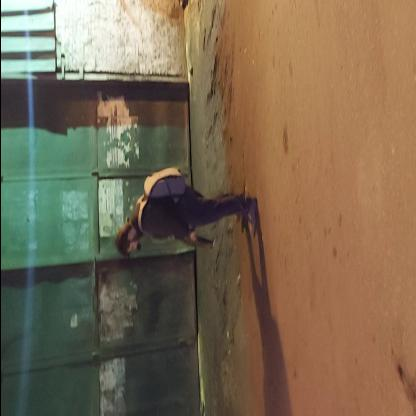long weapon: (166, 216, 222, 253)
